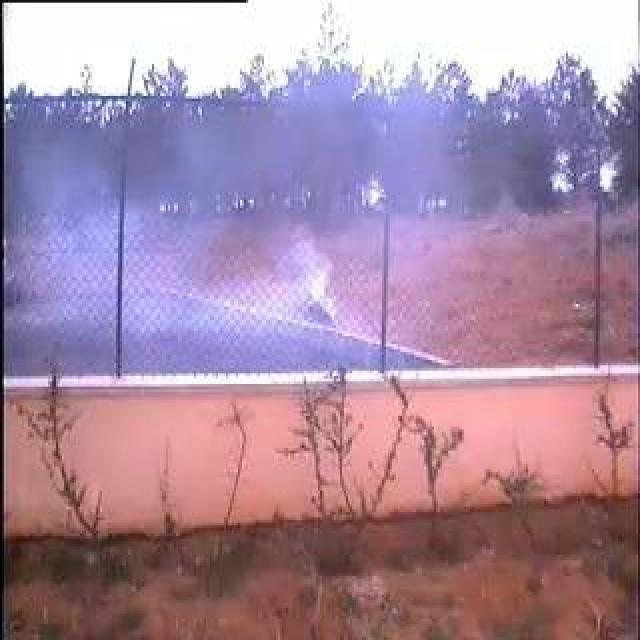Smoke: (117, 104, 391, 373)
